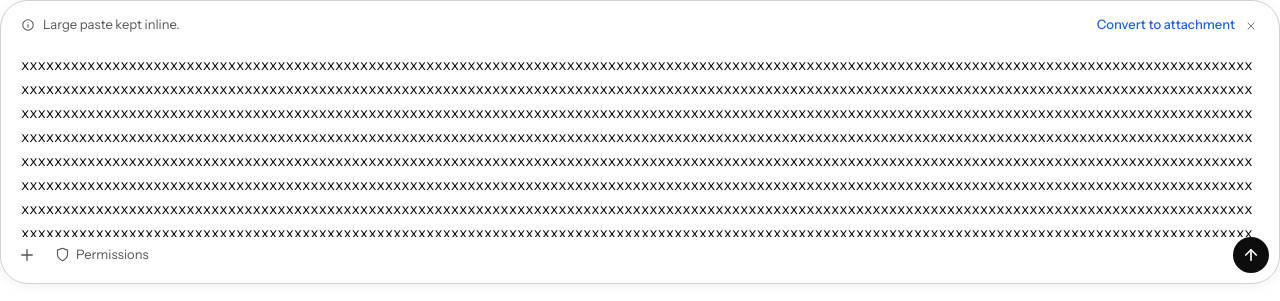
Scenario: attachment tray and uploads › makes successful conversion recoverable exactly once with a timestamped filename
This screenshot has width=1280, height=301.
Click the button "Convert to attachment" at (1166, 25), box top-left (1097, 15), bottom-right (1235, 34)
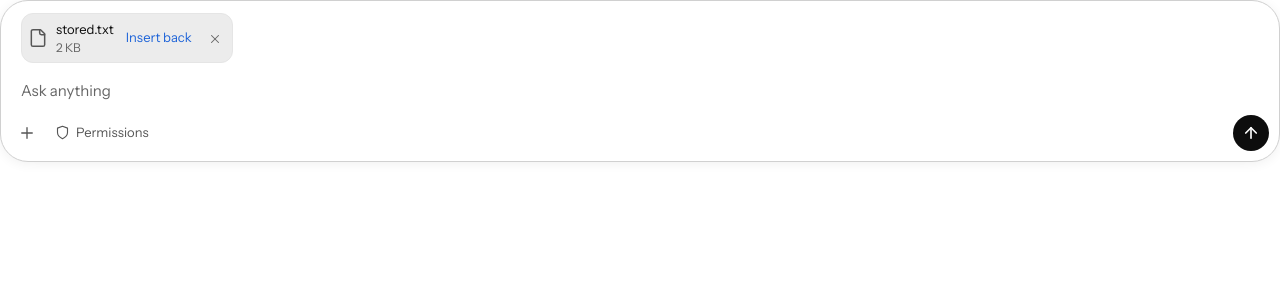
Click the button "Insert back" at (159, 38), box top-left (122, 28), bottom-right (196, 48)
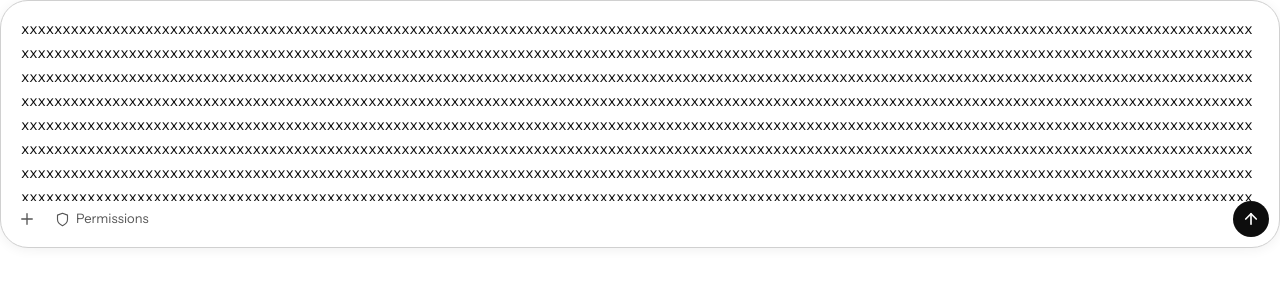
Result: the text "Insert back" is gone
